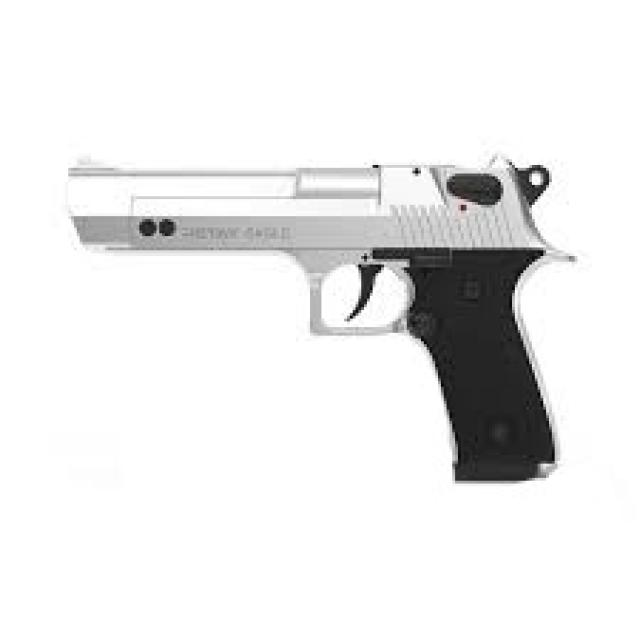pistol: (58, 142, 575, 487)
